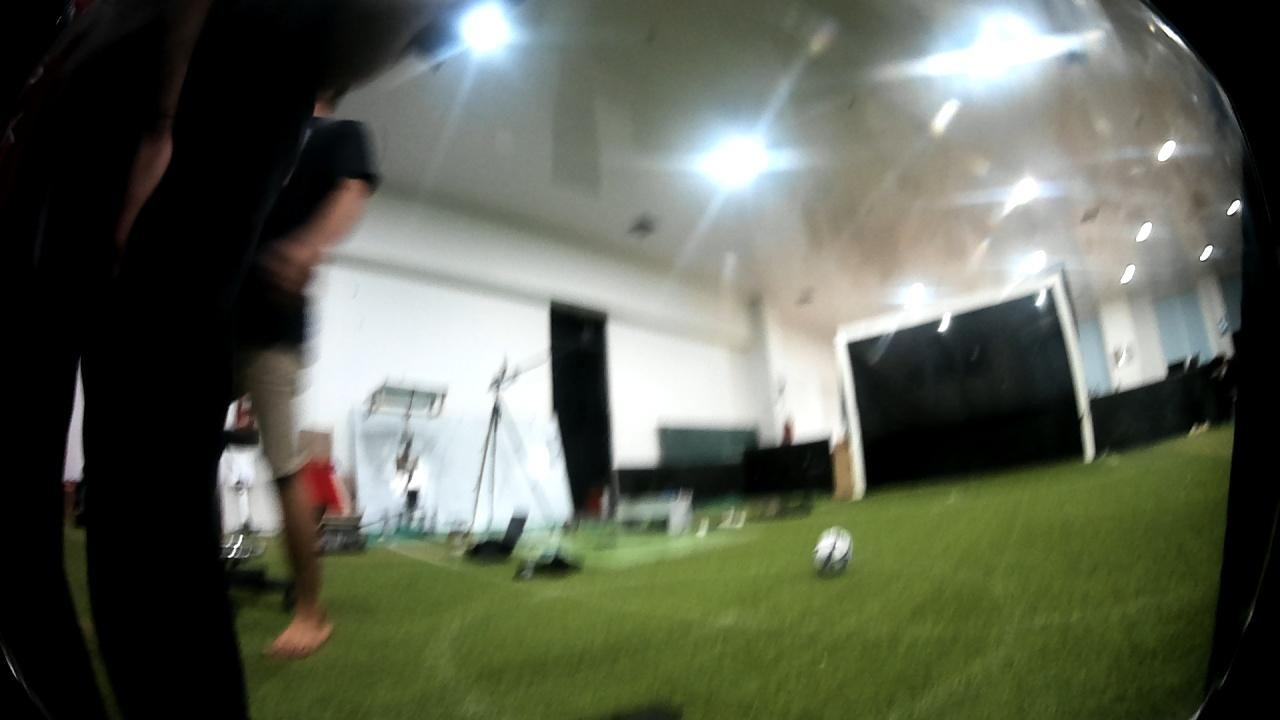ball: (809, 520, 857, 579)
